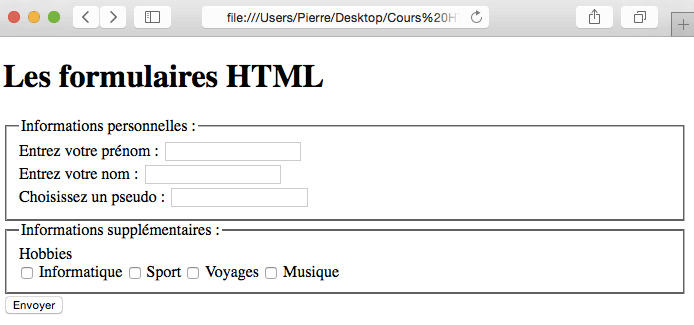_form_: (1, 1, 416, 325), (200, 1, 624, 41)
button: (6, 295, 64, 315), (574, 3, 615, 31), (131, 4, 175, 30), (619, 4, 660, 30)
checkbox: (265, 265, 279, 280), (20, 266, 34, 279), (129, 266, 143, 279), (188, 265, 200, 280)
checkbox_with_label: (18, 265, 121, 280), (264, 263, 338, 282), (185, 264, 259, 281), (127, 265, 181, 281)
field: (201, 4, 491, 29), (161, 140, 303, 162), (143, 163, 282, 185), (169, 187, 310, 208)
field_with_label: (19, 138, 305, 164), (18, 185, 311, 209), (19, 162, 285, 186)
